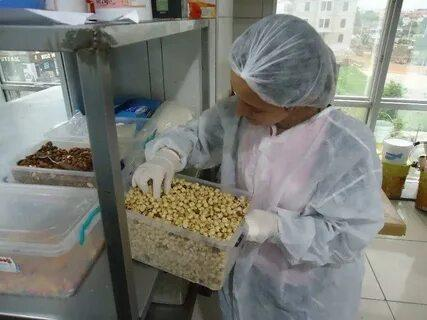hairnet: (234, 5, 350, 104)
